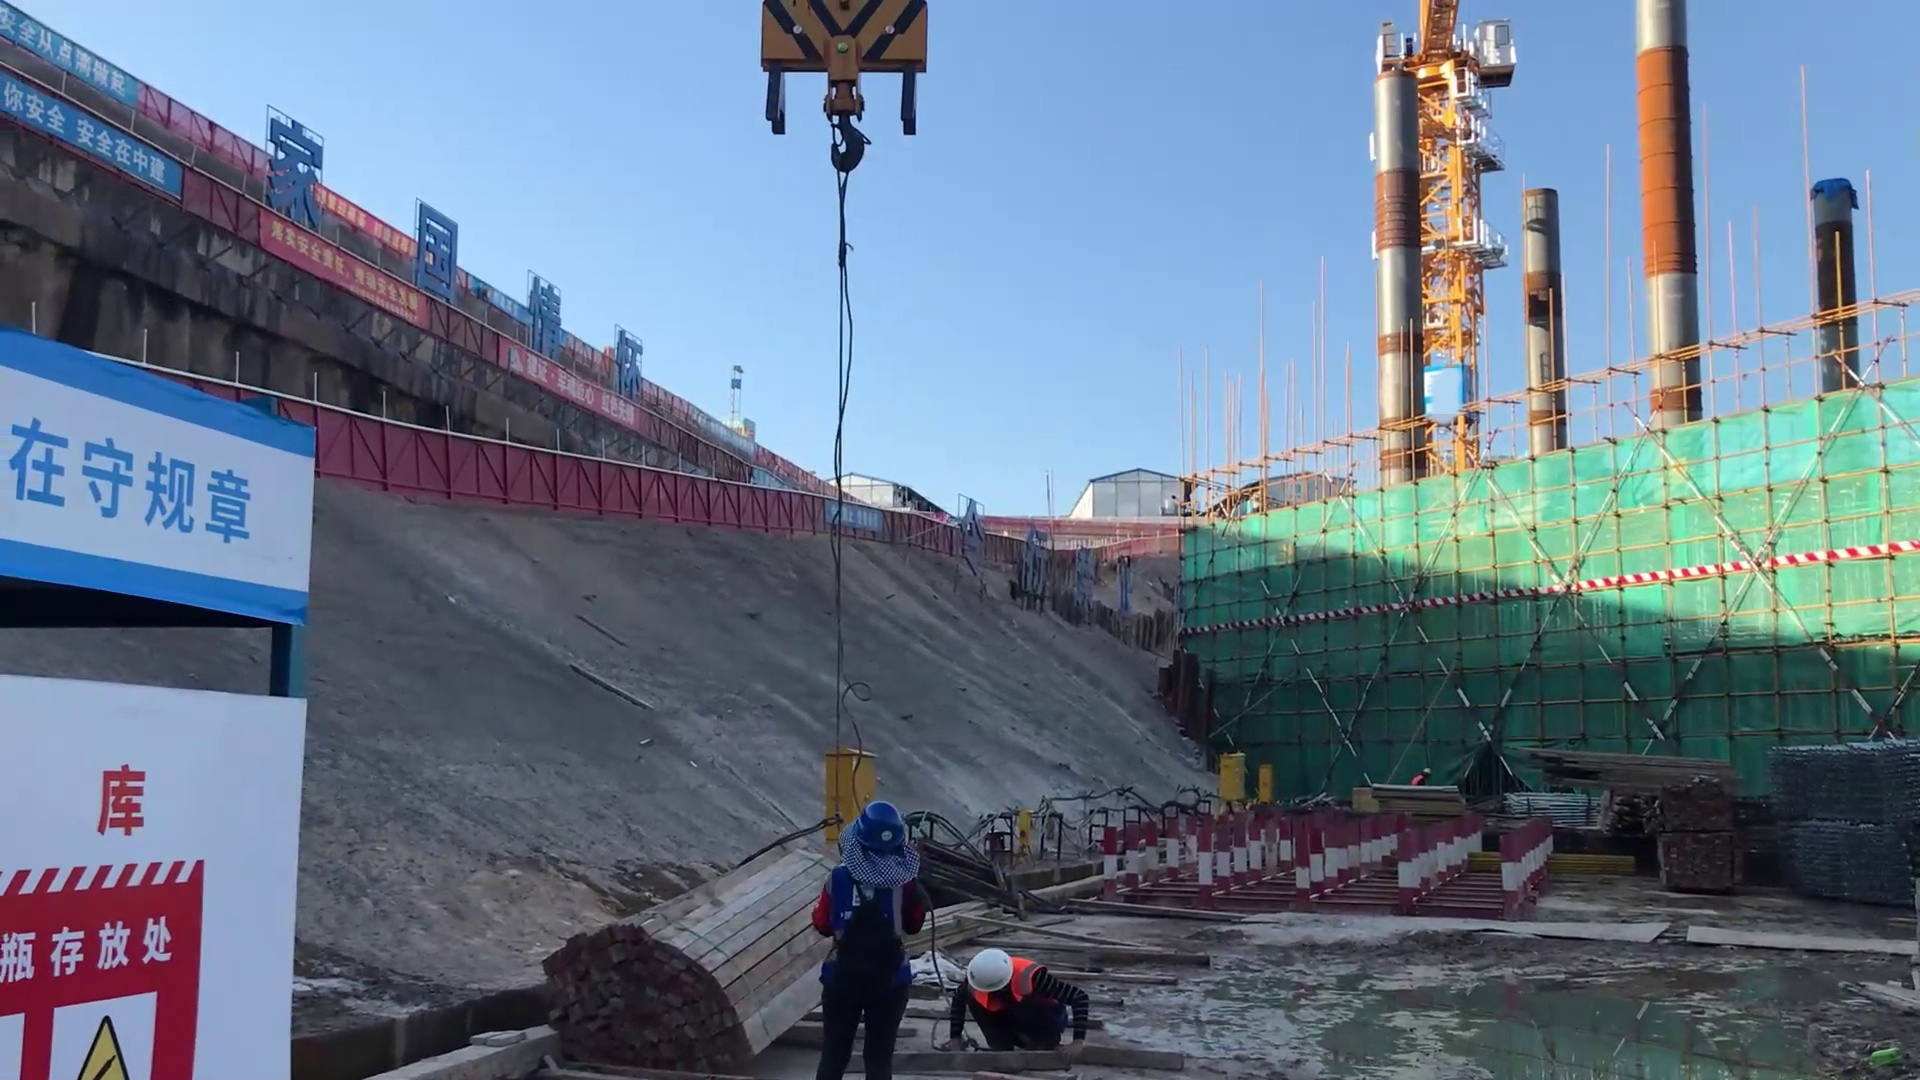ebox: (814, 729, 884, 829), (1218, 753, 1249, 814), (1256, 765, 1275, 807)
fence: (311, 394, 693, 561), (692, 475, 901, 542)
helmet: (843, 794, 911, 868)
hook: (766, 1, 922, 141)
person: (818, 805, 918, 1080), (947, 948, 1098, 1059), (1409, 764, 1433, 785)
scaffold: (1749, 712, 1920, 826), (1774, 792, 1920, 907)
slogan: (1, 361, 299, 604), (229, 187, 421, 341), (17, 100, 193, 220), (33, 968, 196, 1080), (4, 1, 133, 107)
wood: (528, 818, 818, 1070), (1511, 737, 1740, 800)
